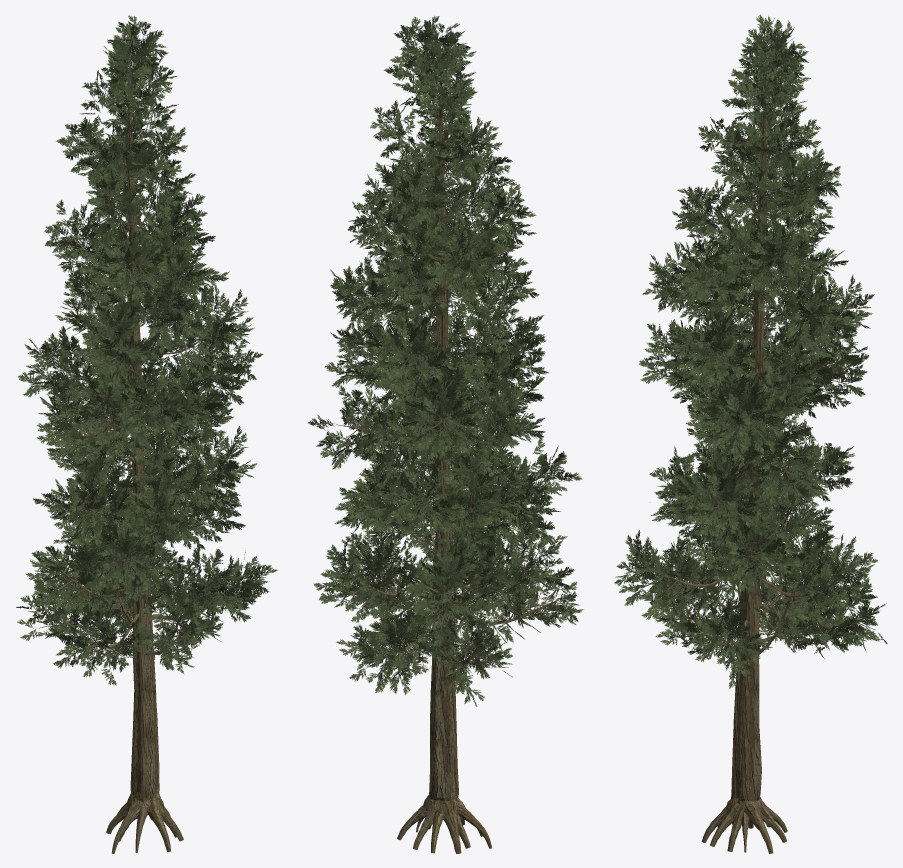
File: ceder.fbx
3 renders of one model, left to right at view 1: azimuth 30°, elevation 25°; view 2: azimuth 150°, elevation 25°; view 3: azimuth 270°, elevation 25°, orthographic. The views are drawn at different scales.
Visible parts, largest first — view 1: leaf, trunk, b2, b1; view 2: leaf, trunk, b2, b1; view 3: leaf, trunk, b2, b1.
Part boxes in pixels (x1=…): leaf: x1=16, y1=15, x2=277, y2=685; trunk: x1=106, y1=83, x2=183, y2=853; b2: x1=36, y1=54, x2=256, y2=669; b1: x1=48, y1=35, x2=235, y2=655; leaf: x1=308, y1=16, x2=583, y2=706; trunk: x1=397, y1=76, x2=491, y2=853; b2: x1=330, y1=44, x2=571, y2=686; b1: x1=343, y1=38, x2=556, y2=666; leaf: x1=614, y1=14, x2=887, y2=688; trunk: x1=702, y1=71, x2=787, y2=853; b2: x1=633, y1=48, x2=875, y2=665; b1: x1=647, y1=42, x2=863, y2=655.
Size of the model in its own units: 8.76 by 28.79 by 8.73.
